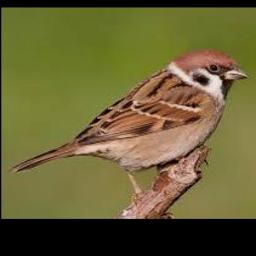Sparrow: (11, 50, 250, 193)
